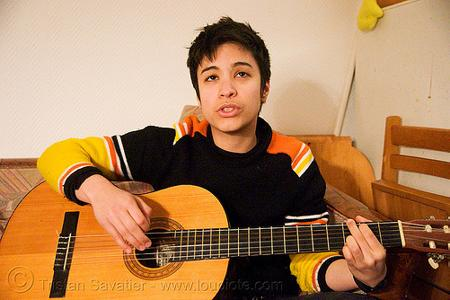person: (37, 20, 388, 299)
